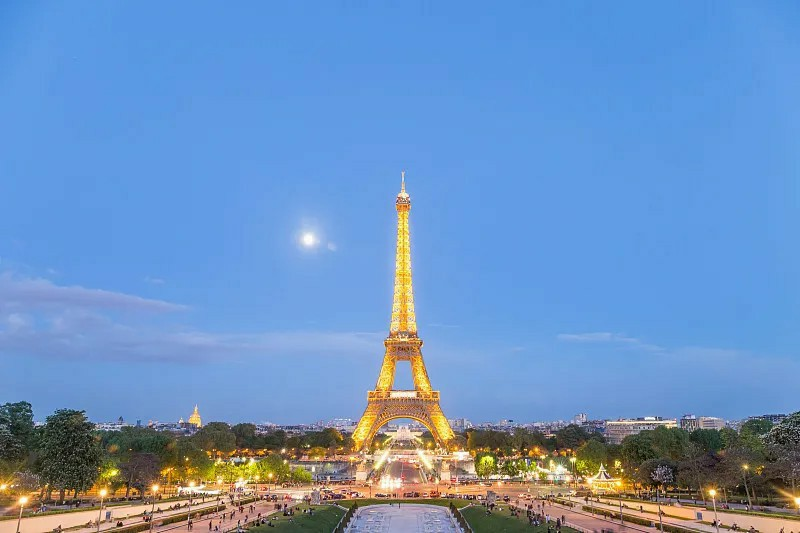Eiffel: (349, 169, 456, 456)
